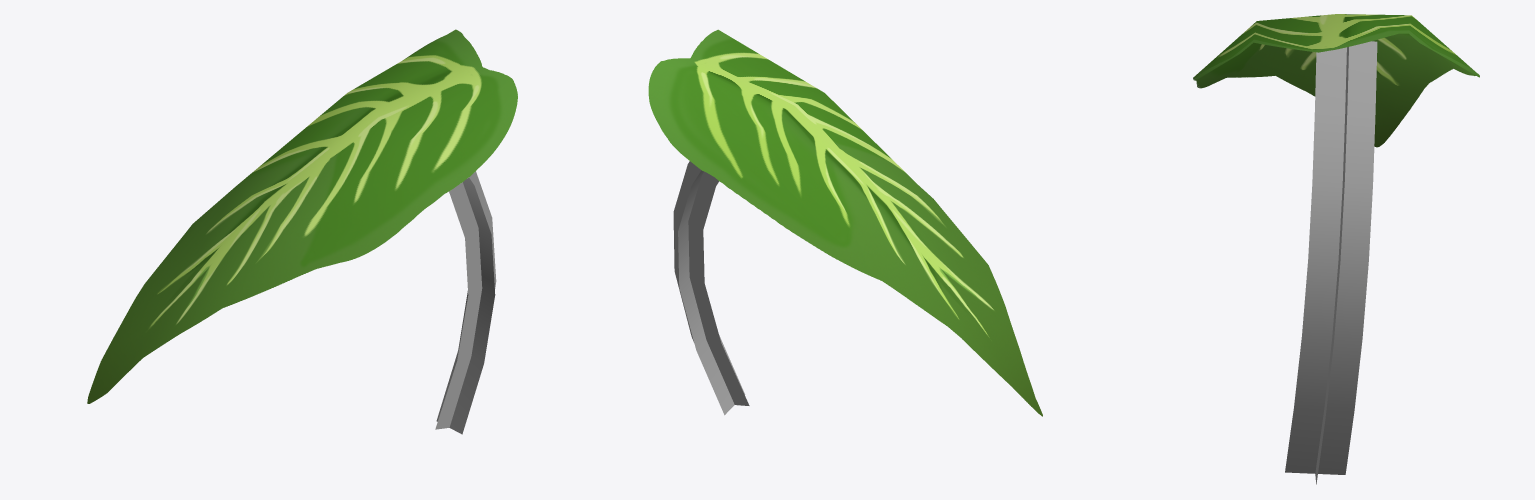
The model's file is HojaGrande2.fbx.
3 renders of one model, left to right at view 1: azimuth 30°, elevation 25°; view 2: azimuth 150°, elevation 25°; view 3: azimuth 270°, elevation 25°, orthographic. The views are drawn at different scales.
Parts seen in each view (by area): view 1: HojaGrande2; view 2: HojaGrande2; view 3: HojaGrande2.
Part boxes in pixels (x1,y1,x2,y2): HojaGrande2: [87, 29, 517, 434]; HojaGrande2: [648, 29, 1042, 416]; HojaGrande2: [1193, 14, 1479, 484].
Size of the model in its own units: 385 by 307 by 203.
2 materials, 1 textured.
